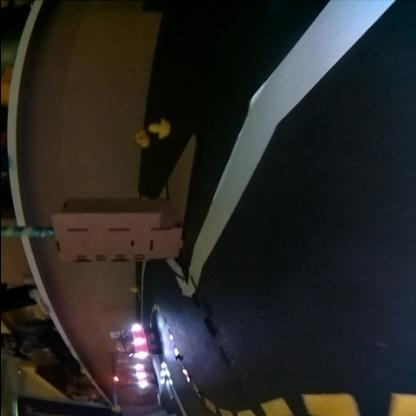Duckie: (149, 119, 169, 140), (134, 137, 148, 148), (132, 130, 142, 140), (128, 288, 136, 294)
Duckiebot: (124, 324, 158, 358), (123, 363, 153, 391)
Traffic light: (112, 377, 119, 383)
